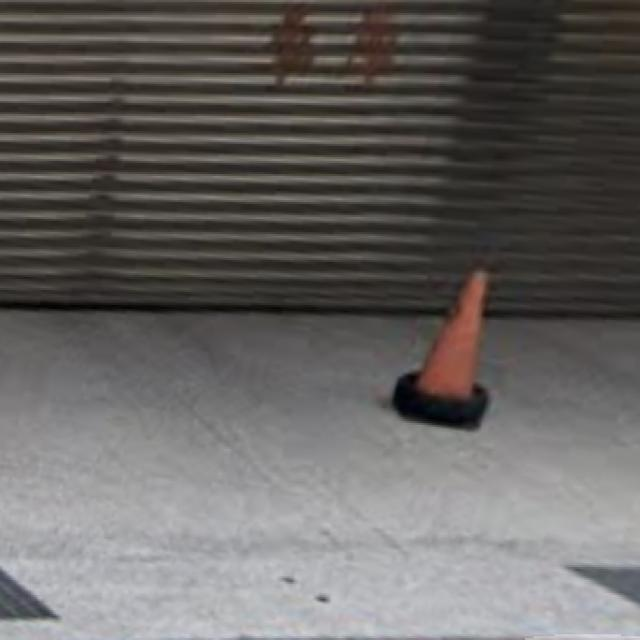cone: (414, 256, 496, 394)
